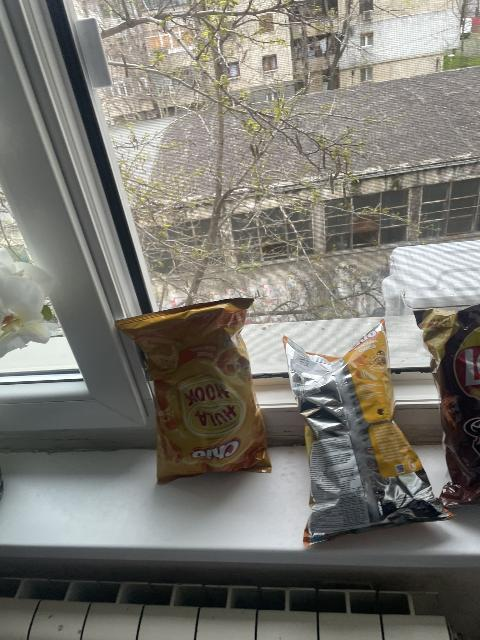Chio Cascaval 125g: (279, 317, 452, 547)
Chio Hula Hoops Cheese 70g: (115, 297, 276, 480)
Lays Beef Grilled Ribs 125g: (411, 302, 480, 508)
